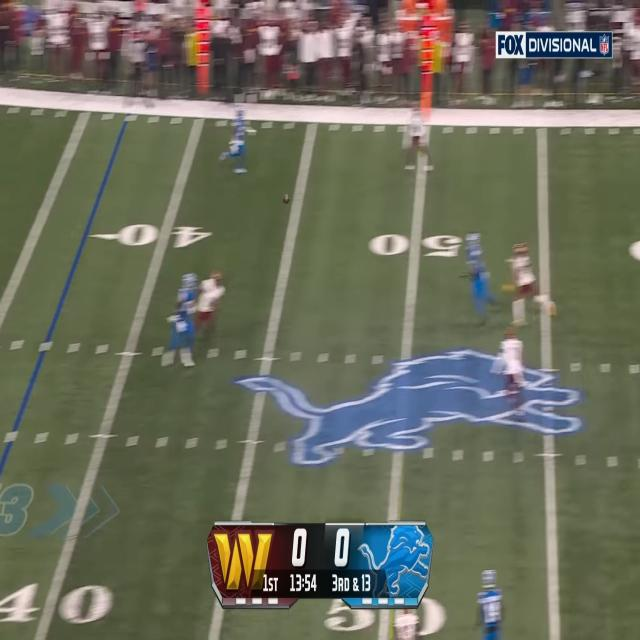Ball: (281, 193, 291, 205)
